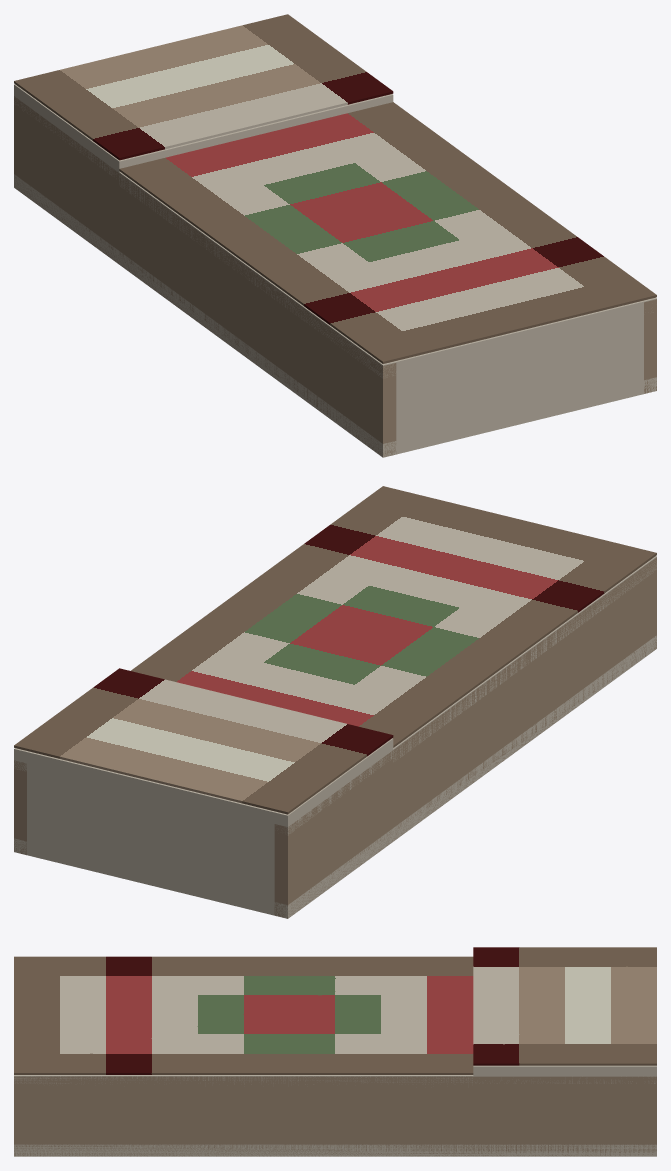
File: CMU3DCMCigarettePackLuckySlothsMiniPrintedSmallCloud.glb
3 renders of one model, top to bottom at view 1: azimuth 30°, elevation 25°; view 2: azimuth 150°, elevation 25°; view 3: azimuth 270°, elevation 25°, orthographic. The views are drawn at different scales.
Parts seen in each view (by area): view 1: original lower printed carton face, left folded side panel, original upper lid print, lower end fold, carton back panel, separate folded upper lid, printed main carton panel, right folded side panel; view 2: original lower printed carton face, left folded side panel, original upper lid print, closed mouth tuck, carton back panel, separate folded upper lid, printed main carton panel, right folded side panel; view 3: original lower printed carton face, right folded side panel, original upper lid print, carton back panel, separate folded upper lid, printed main carton panel.
Boxes of the visible parts, left/top/right/bottom form: original lower printed carton face: left=119, top=102, right=656, bottom=363; left folded side panel: left=14, top=96, right=396, bottom=457; original upper lid print: left=14, top=14, right=393, bottom=160; lower end fold: left=396, top=302, right=643, bottom=453; carton back panel: left=14, top=174, right=656, bottom=457; separate folded upper lid: left=14, top=84, right=393, bottom=180; printed main carton panel: left=119, top=172, right=656, bottom=378; right folded side panel: left=644, top=299, right=656, bottom=393; original lower printed carton face: left=131, top=486, right=656, bottom=747; left folded side panel: left=274, top=557, right=656, bottom=918; original upper lid print: left=14, top=668, right=393, bottom=814; closed mouth tuck: left=27, top=764, right=274, bottom=915; carton back panel: left=14, top=635, right=656, bottom=918; separate folded upper lid: left=14, top=738, right=393, bottom=835; printed main carton panel: left=393, top=556, right=656, bottom=761; right folded side panel: left=14, top=760, right=26, bottom=855; original lower printed carton face: left=14, top=956, right=473, bottom=1074; right folded side panel: left=14, top=1076, right=656, bottom=1156; original upper lid print: left=473, top=947, right=656, bottom=1065; carton back panel: left=14, top=1144, right=656, bottom=1156; separate folded upper lid: left=473, top=1065, right=656, bottom=1083; printed main carton panel: left=14, top=1075, right=473, bottom=1084.
Size of the model in its own units: 0.1875 by 0.0698 by 0.4375.
4 materials, 2 textured.
